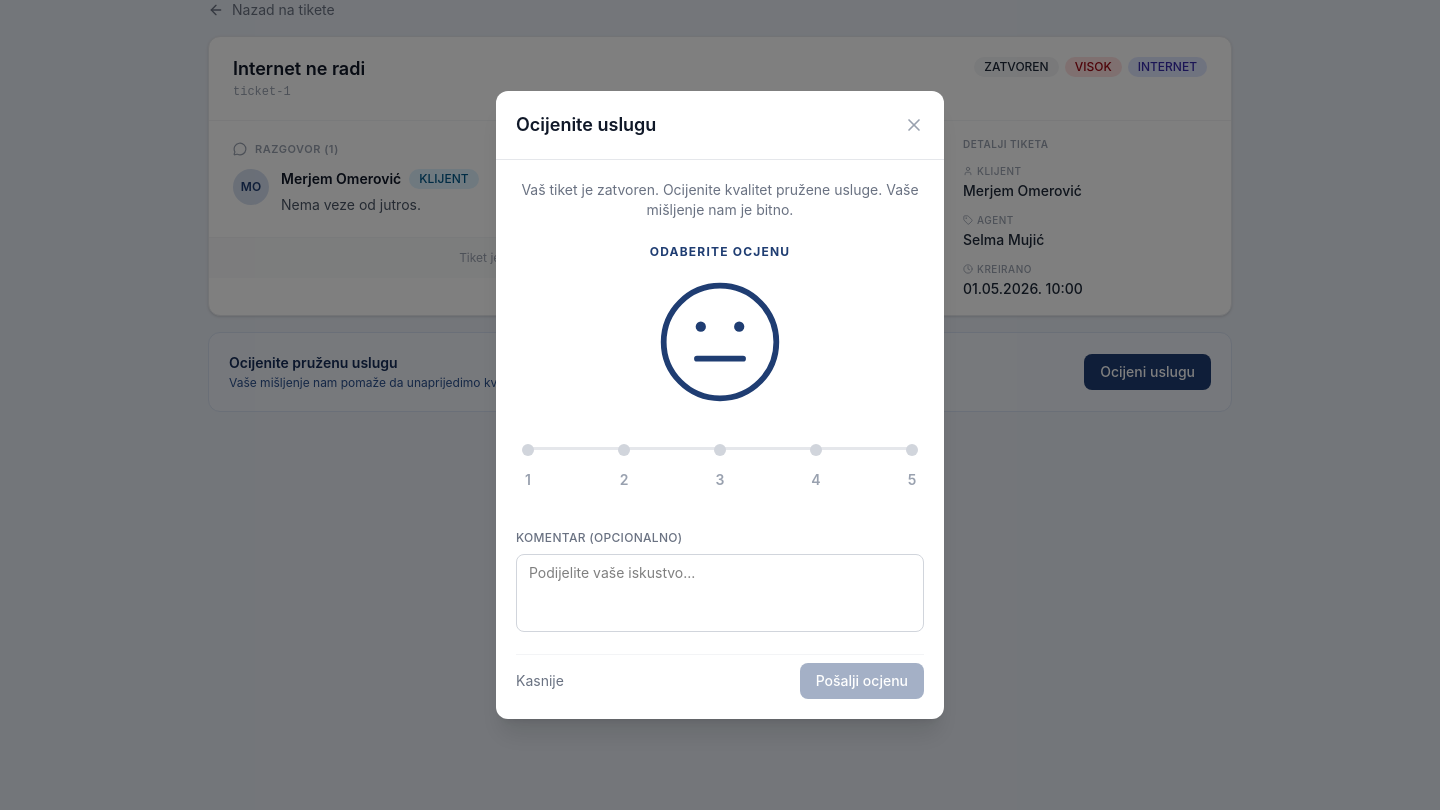
Scenario: US-61: Ocjenjivanje tiketa › zatvara modal klikom na Kasnije
Expected: the heading "Ocijenite uslugu" is shown, [516,111,656,139]
Click the button "Kasnije".
click(540, 681)  # box [516,671,564,691]
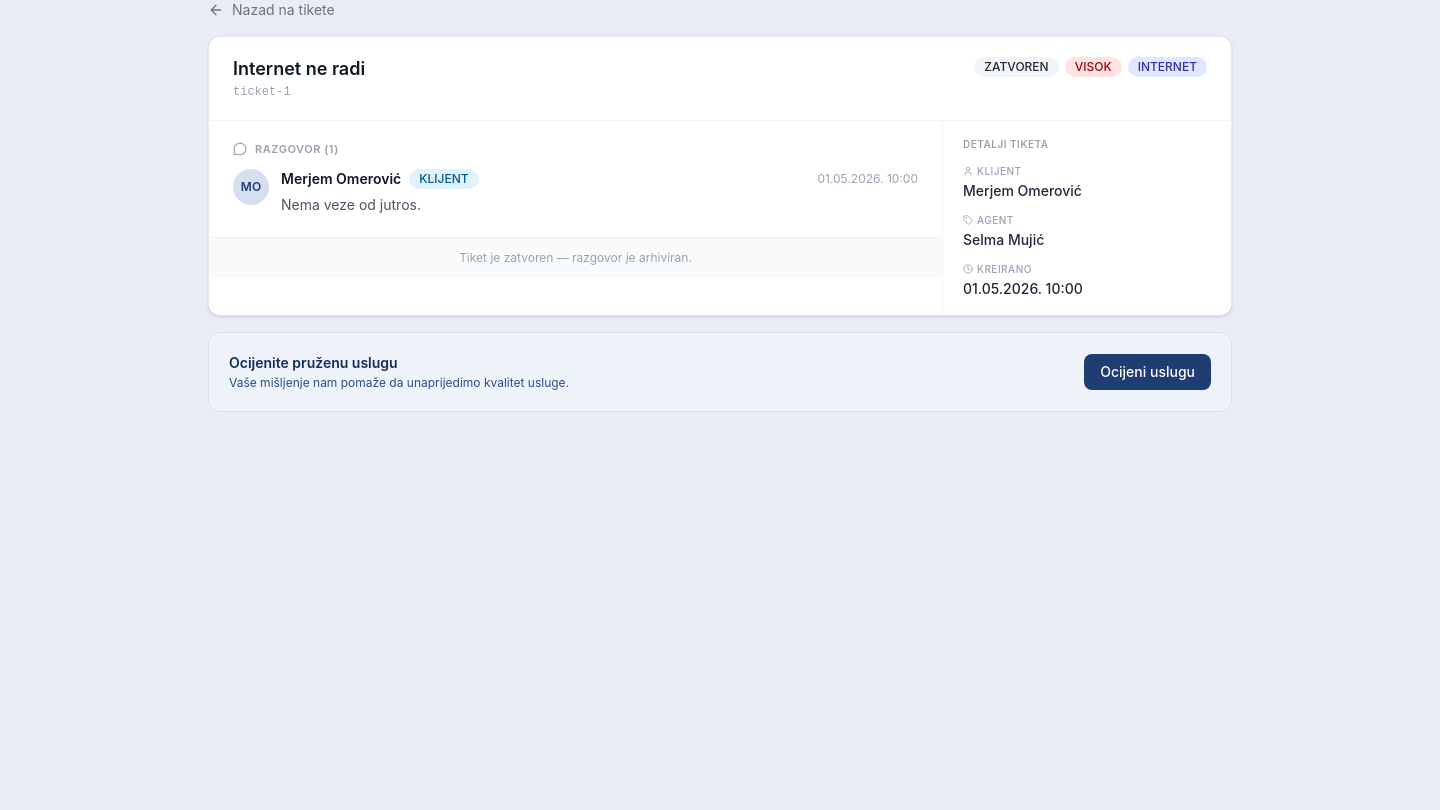
Expected: the heading "Ocijenite uslugu" is gone
